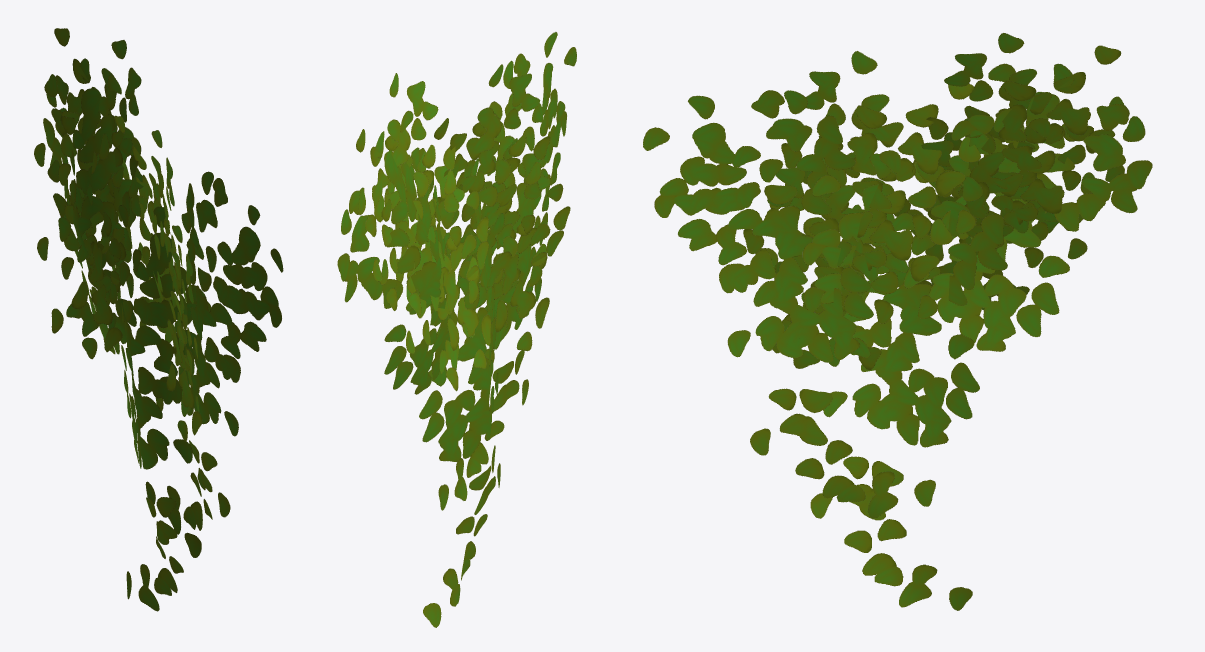
The model's file is SM_Vine_03.fbx.
3 views of the same model, side by side, from view 1: azimuth 30°, elevation 25°; view 2: azimuth 150°, elevation 25°; view 3: azimuth 270°, elevation 25° (orthographic). The views are drawn at different scales.
Visible parts, largest first — view 1: SM_Vine_03_LOD0; view 2: SM_Vine_03_LOD0; view 3: SM_Vine_03_LOD0.
Boxes of the visible parts, x1,y1,x2,y2 form: SM_Vine_03_LOD0: [34, 28, 283, 611]; SM_Vine_03_LOD0: [337, 31, 576, 627]; SM_Vine_03_LOD0: [643, 33, 1152, 610].
Size of the model in its own units: 59.22 by 330 by 404.
